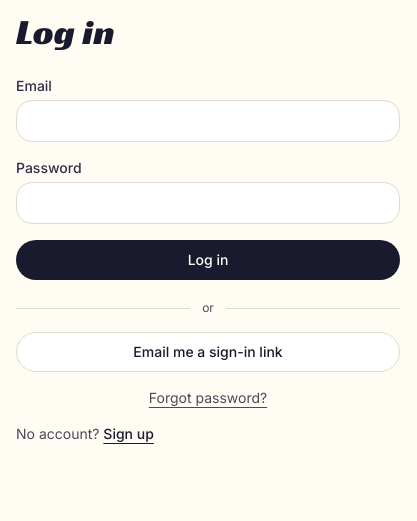
Test: LoginPage › offers to resend the confirmation email when email is unconfirmed
The width and height of the screenshot is (417, 521).
Type "a@example.com" into the field labelled "Email" at {"x": 208, "y": 121}, box [16,100,400,142]
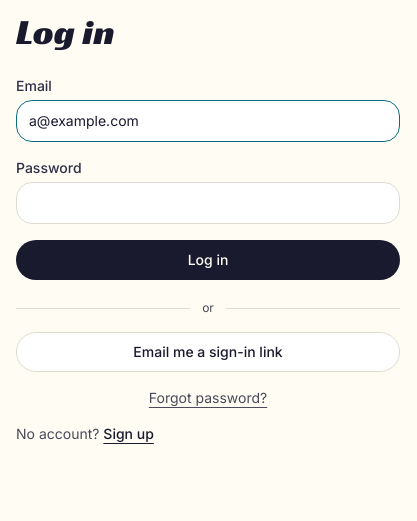
Type "secret1" into the password field labelled "Password" at {"x": 208, "y": 203}, box [16,182,400,224]
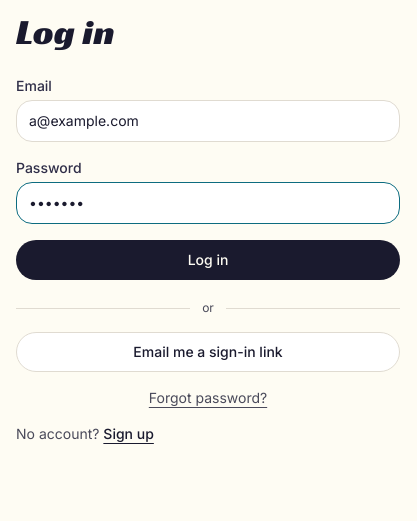
Click the button "Log in" at {"x": 208, "y": 260}, box [16,240,400,280]
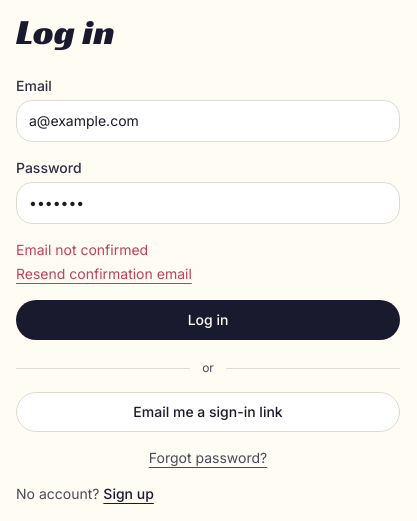
Click the button "Resend confirmation email" at {"x": 104, "y": 274}, box [16,264,192,284]
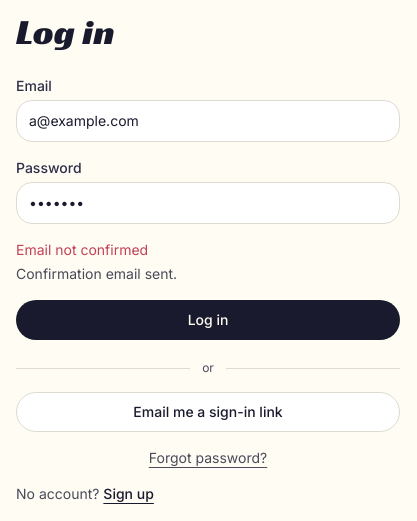
Now the text "Confirmation email sent." is shown, box [16,265,177,282]
